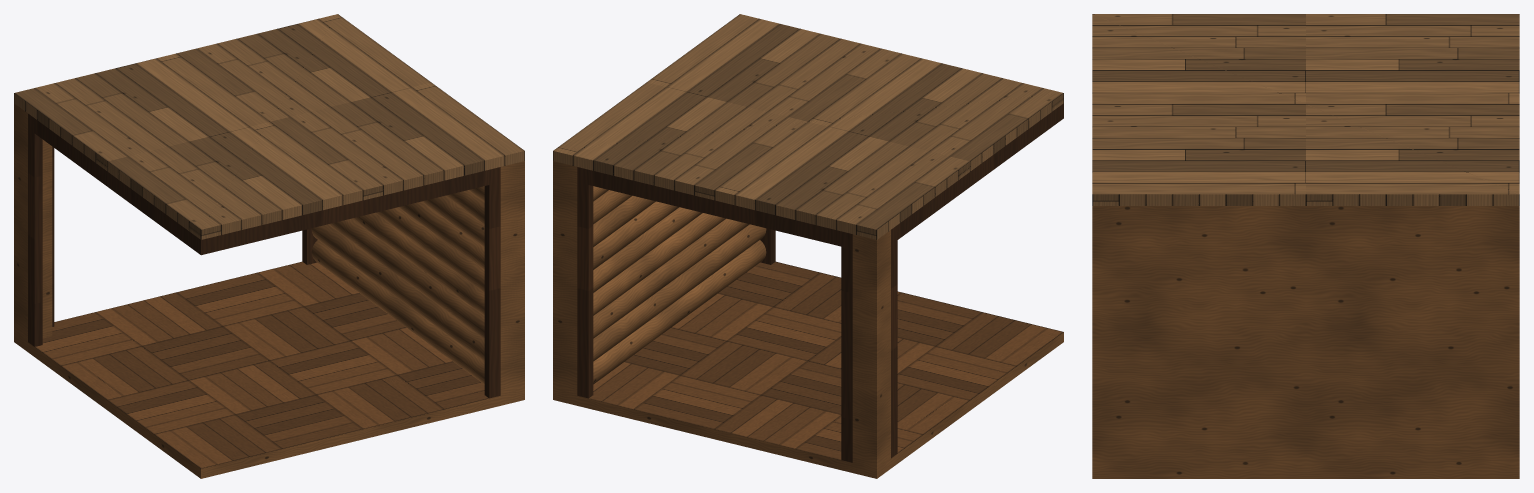
File: Room_Cabin_OpeningCornerR_NoLight.glb
3 views of the same model, side by side, from view 1: azimuth 30°, elevation 25°; view 2: azimuth 150°, elevation 25°; view 3: azimuth 270°, elevation 25° (orthographic). The views are drawn at different scales.
Visible parts, largest first — view 1: Room_Cabin_OpeningCornerR_NoLight, Room_Cabin_OpeningCornerR_NoLight_Ceiling; view 2: Room_Cabin_OpeningCornerR_NoLight, Room_Cabin_OpeningCornerR_NoLight_Ceiling; view 3: Room_Cabin_OpeningCornerR_NoLight, Room_Cabin_OpeningCornerR_NoLight_Ceiling.
Boxes of the visible parts, <box> form: Room_Cabin_OpeningCornerR_NoLight: <box>14,103,524,478</box>; Room_Cabin_OpeningCornerR_NoLight_Ceiling: <box>14,14,524,255</box>; Room_Cabin_OpeningCornerR_NoLight: <box>553,161,1063,478</box>; Room_Cabin_OpeningCornerR_NoLight_Ceiling: <box>553,14,1063,248</box>; Room_Cabin_OpeningCornerR_NoLight: <box>1092,206,1519,478</box>; Room_Cabin_OpeningCornerR_NoLight_Ceiling: <box>1092,14,1519,205</box>.
Bounding box in the file's own units: 4 × 2.94 × 4.
5 materials, 5 textured.
